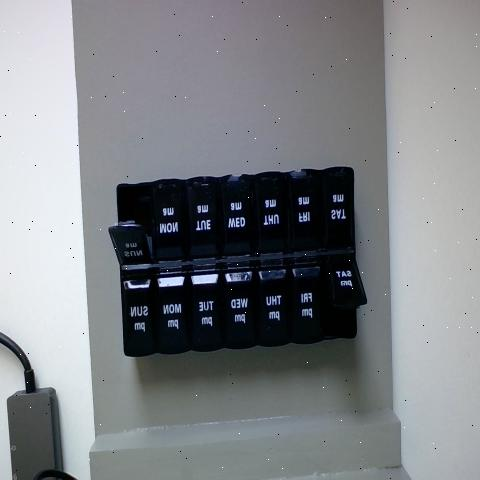FRI-am: (283, 174, 317, 254)
FRI-pm: (289, 269, 318, 342)
MON-am: (146, 181, 179, 259)
MON-pm: (156, 275, 188, 352)
Open: (322, 269, 368, 338), (110, 185, 148, 254)
PillBox: (103, 140, 378, 385)
SAT-am: (319, 172, 350, 252)
SUN-pm: (126, 278, 152, 354)
THU-am: (248, 174, 282, 255)
THU-pm: (256, 264, 290, 347)
TUE-am: (182, 180, 214, 260)
TUE-pm: (194, 272, 222, 348)
WED-am: (216, 177, 247, 257)
WED-pm: (224, 269, 254, 349)
